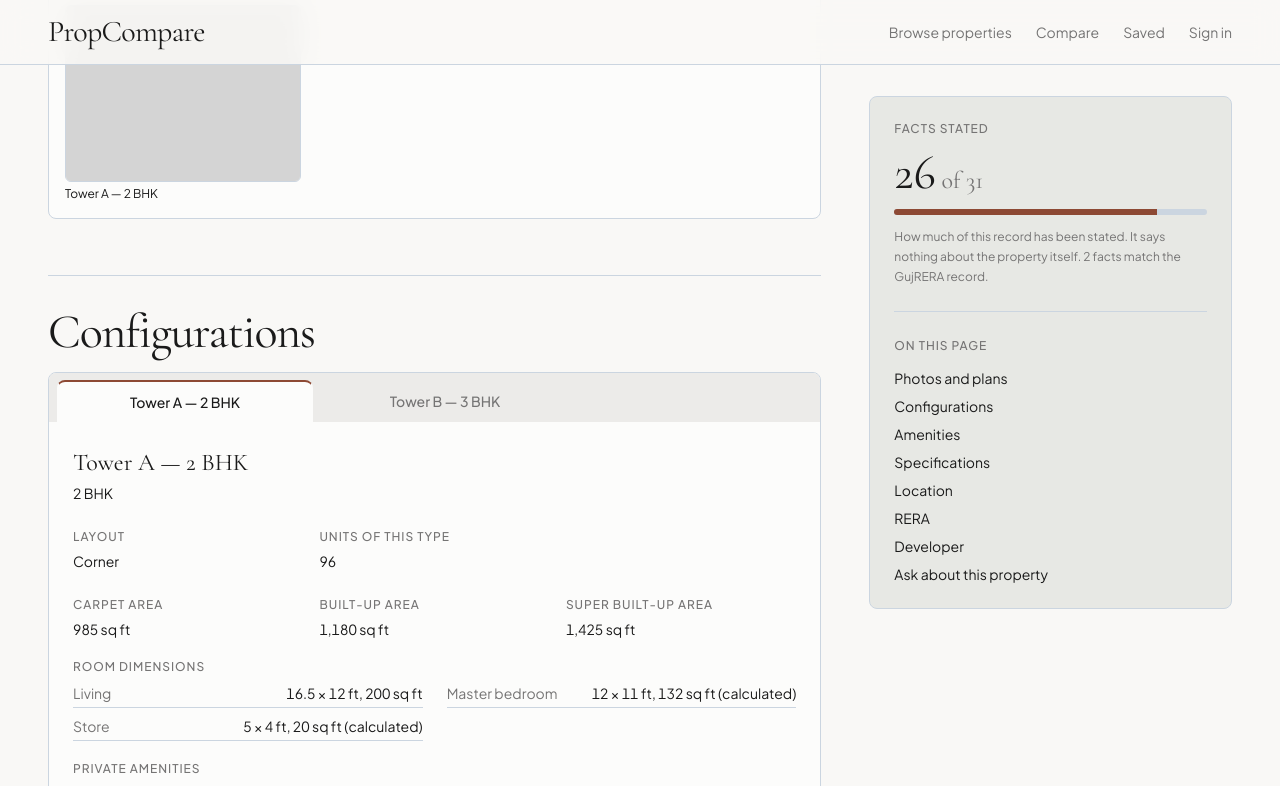
Test: DossierScreen — the full property › shows the unit types as one card with a tab for each, not a stack of cards
(page scrolled)
Check: the text "Tower A — 2 BHK" is shown, box 73,448 -> 248,476
Step 1. Click the tab "Tower B — 3 BHK" → {"x": 445, "y": 400}, box 317,380 -> 573,422
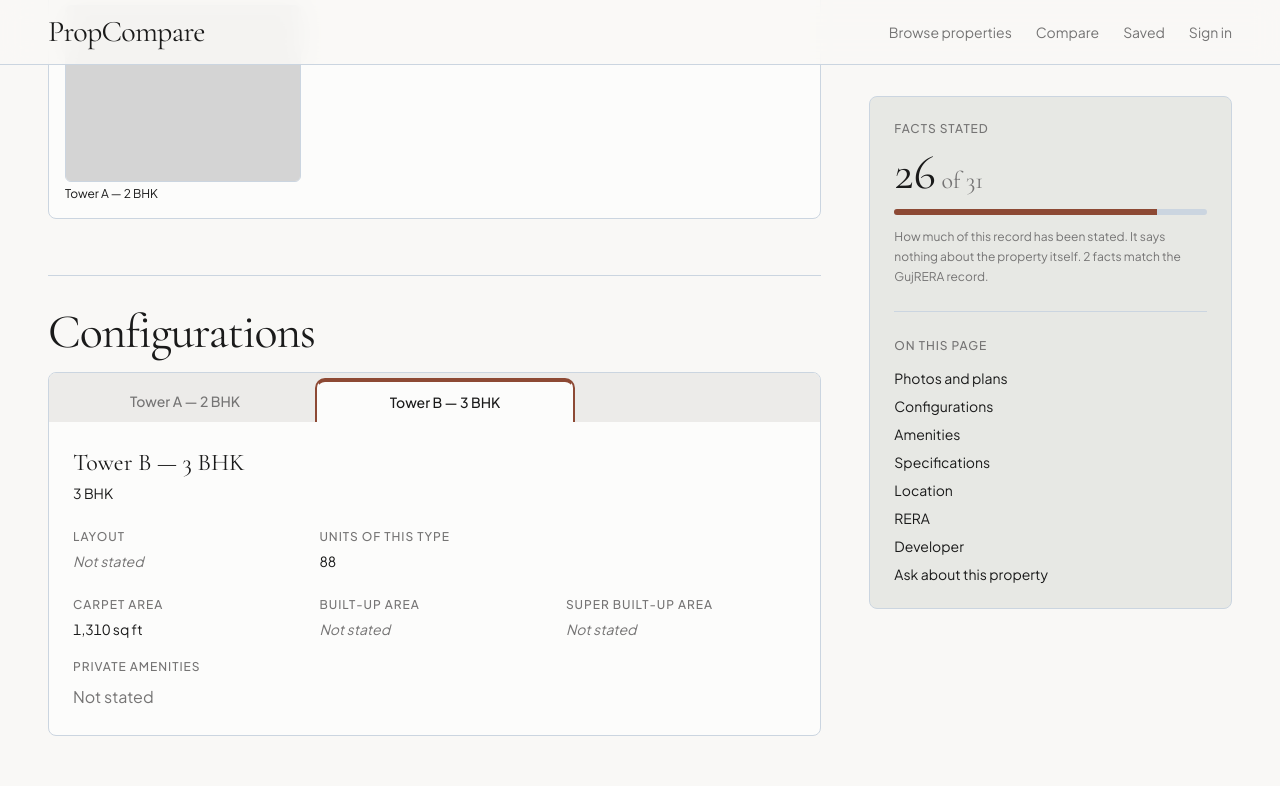
Check: the element that starts with "Tower B — 3 BHK" is shown, box 73,448 -> 245,476
